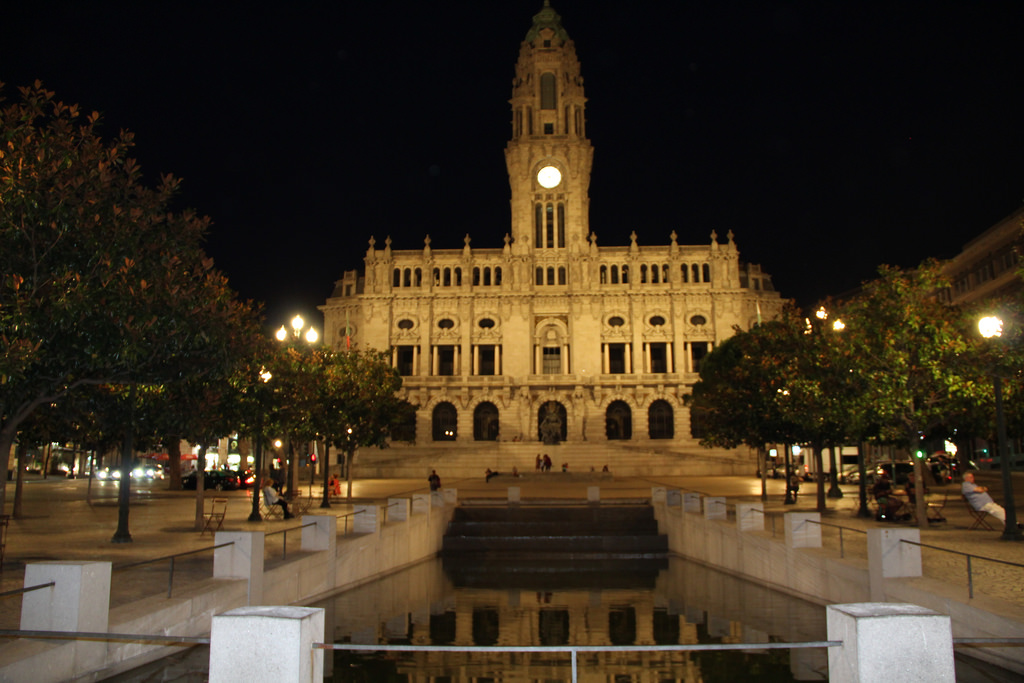camara: (313, 0, 801, 466)
